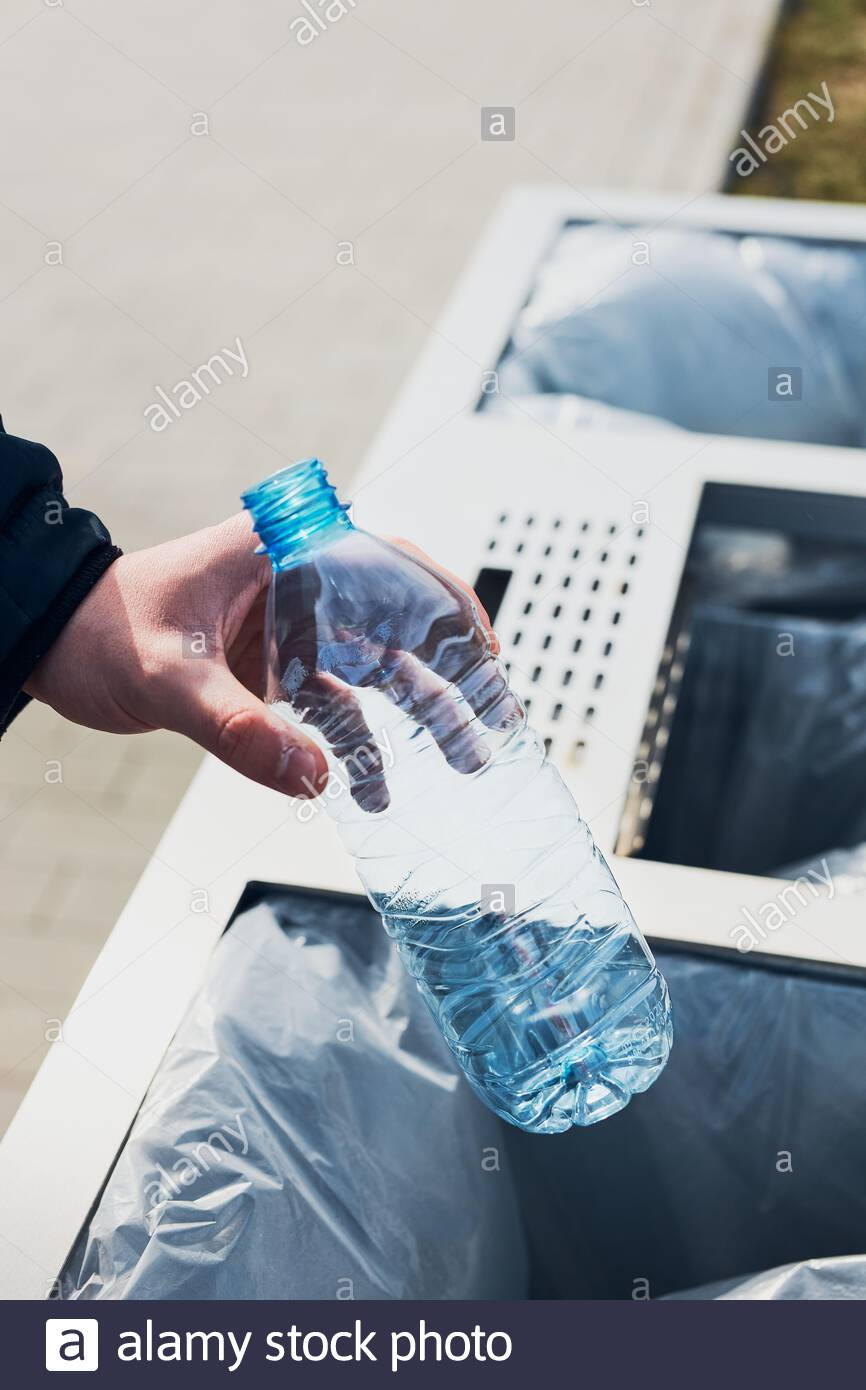plastic_bottle: (161, 164, 834, 1261)
